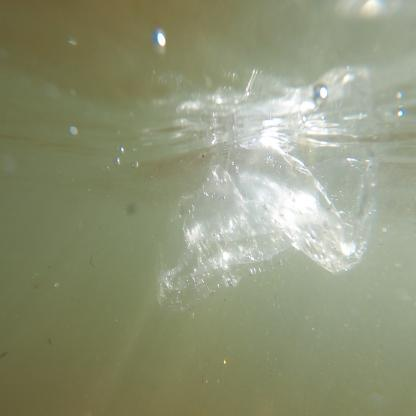Rác: (152, 130, 380, 308)
